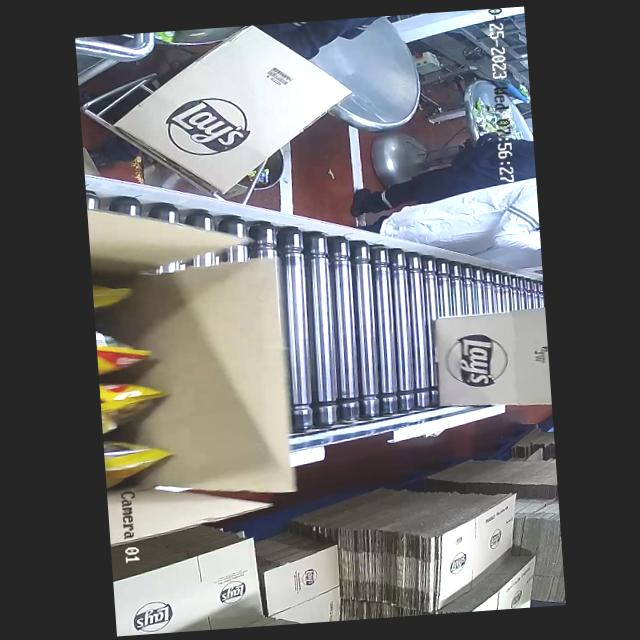salted: (90, 260, 166, 492)
